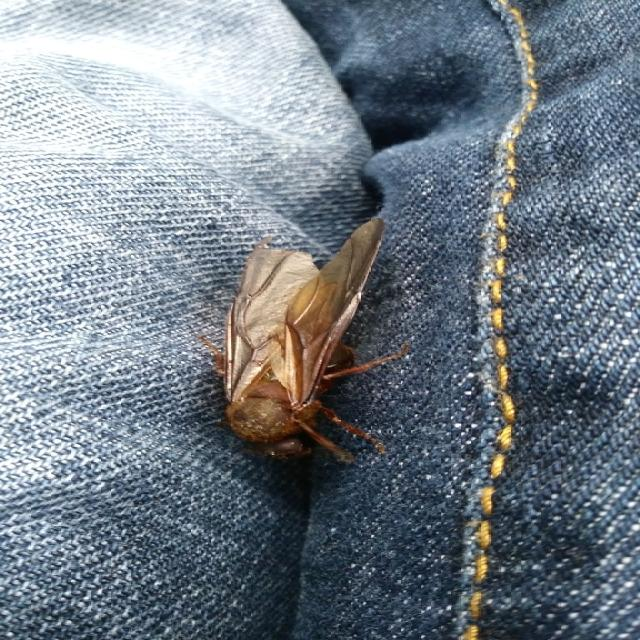Alive-Female-Alate: (198, 217, 410, 464)
